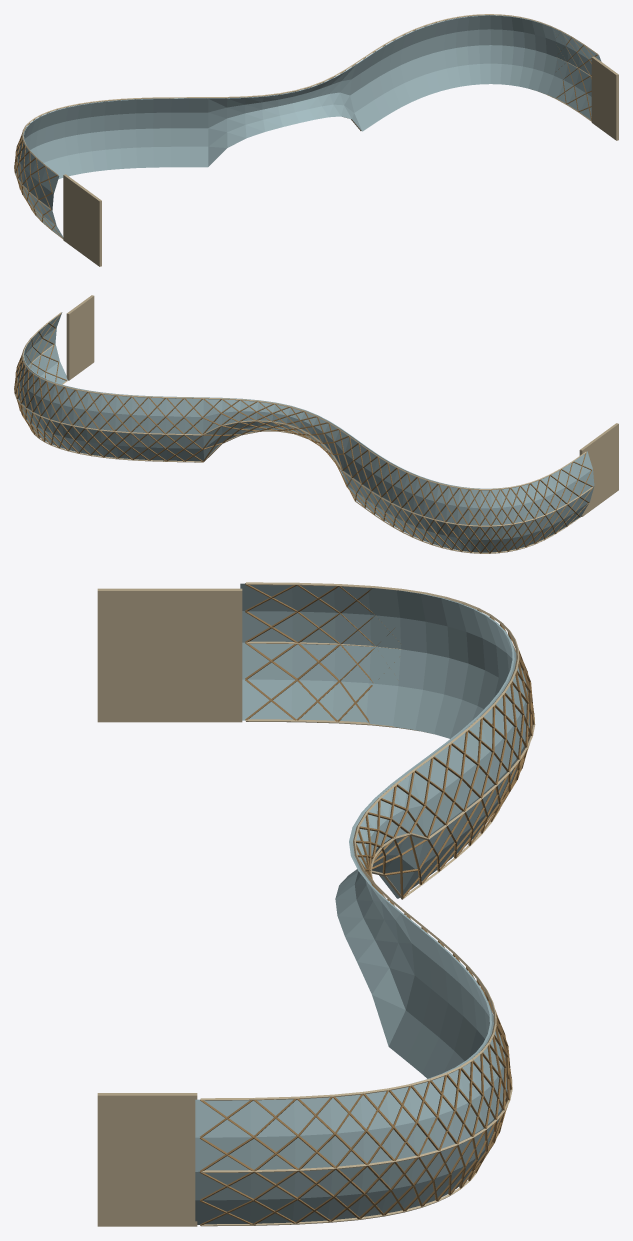
Rendered from KOL_T1_JW__Hero_Diagrid.fbx.
3 renders of one model, top to bottom at view 1: azimuth 30°, elevation 25°; view 2: azimuth 150°, elevation 25°; view 3: azimuth 270°, elevation 25°, orthographic. The views are drawn at different scales.
Parts seen in each view (by area): view 1: KOL_T1_JW__Hero_Diagrid__KOL_T1_GlassLight, KOL_T1_JW__Hero_Diagrid__KOL_T1_Stone, KOL_T1_JW__Hero_Diagrid__KOL_T1_Bronze; view 2: KOL_T1_JW__Hero_Diagrid__KOL_T1_GlassLight, KOL_T1_JW__Hero_Diagrid__KOL_T1_Bronze, KOL_T1_JW__Hero_Diagrid__KOL_T1_Stone; view 3: KOL_T1_JW__Hero_Diagrid__KOL_T1_GlassLight, KOL_T1_JW__Hero_Diagrid__KOL_T1_Stone, KOL_T1_JW__Hero_Diagrid__KOL_T1_Bronze.
Boxes of the visible parts, left/top/right/bottom form: KOL_T1_JW__Hero_Diagrid__KOL_T1_GlassLight: left=16, top=15, right=601, bottom=237; KOL_T1_JW__Hero_Diagrid__KOL_T1_Stone: left=14, top=14, right=618, bottom=266; KOL_T1_JW__Hero_Diagrid__KOL_T1_Bronze: left=14, top=15, right=598, bottom=238; KOL_T1_JW__Hero_Diagrid__KOL_T1_GlassLight: left=16, top=312, right=594, bottom=552; KOL_T1_JW__Hero_Diagrid__KOL_T1_Bronze: left=14, top=314, right=593, bottom=553; KOL_T1_JW__Hero_Diagrid__KOL_T1_Stone: left=14, top=295, right=618, bottom=553; KOL_T1_JW__Hero_Diagrid__KOL_T1_GlassLight: left=195, top=583, right=529, bottom=1224; KOL_T1_JW__Hero_Diagrid__KOL_T1_Stone: left=97, top=582, right=535, bottom=1226; KOL_T1_JW__Hero_Diagrid__KOL_T1_Bronze: left=199, top=583, right=534, bottom=1225.
Bounding box in the file's own units: 278 × 32.64 × 96.75.
